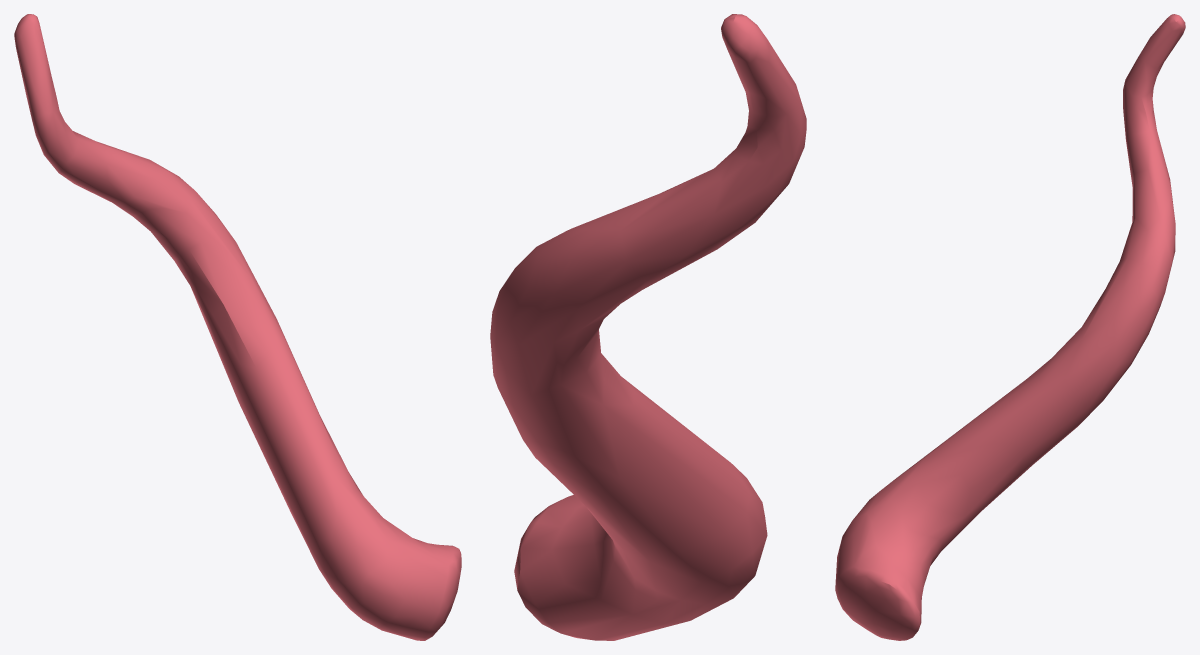
Rendered from fma70486_fj3560.glb.
3 views of the same model, side by side, from view 1: azimuth 30°, elevation 25°; view 2: azimuth 150°, elevation 25°; view 3: azimuth 270°, elevation 25° (orthographic). The views are drawn at different scales.
Parts seen in each view (by area): view 1: FMA70486_FJ3560; view 2: FMA70486_FJ3560; view 3: FMA70486_FJ3560.
Boxes of the visible parts, <box> form: FMA70486_FJ3560: <box>14,14,461,640</box>; FMA70486_FJ3560: <box>490,14,806,640</box>; FMA70486_FJ3560: <box>835,14,1185,640</box>.
Size of the model in its own units: 0.0115 by 0.0205 by 0.0126.
